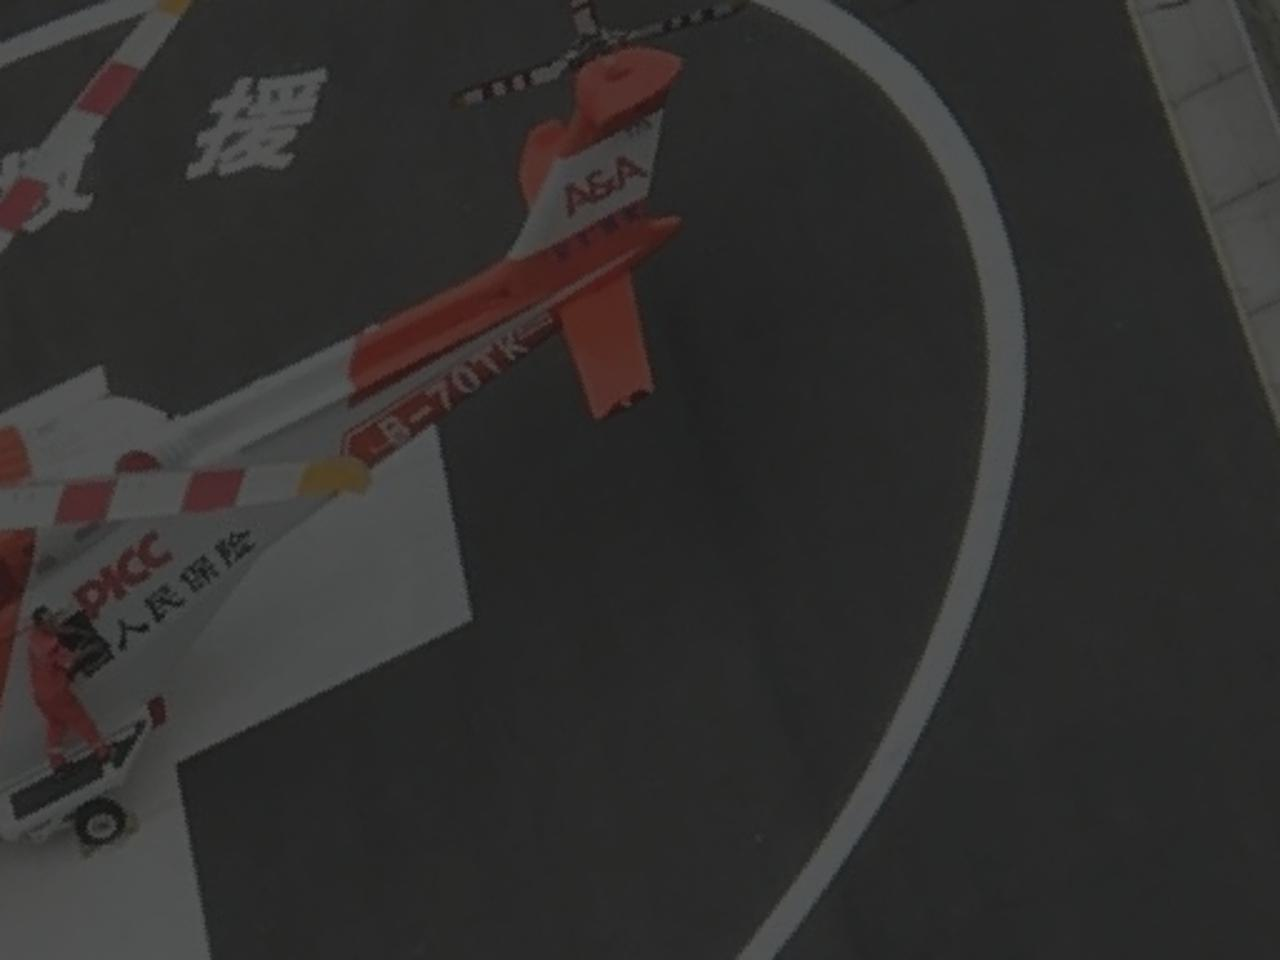Apron: (1, 2, 1043, 960)
